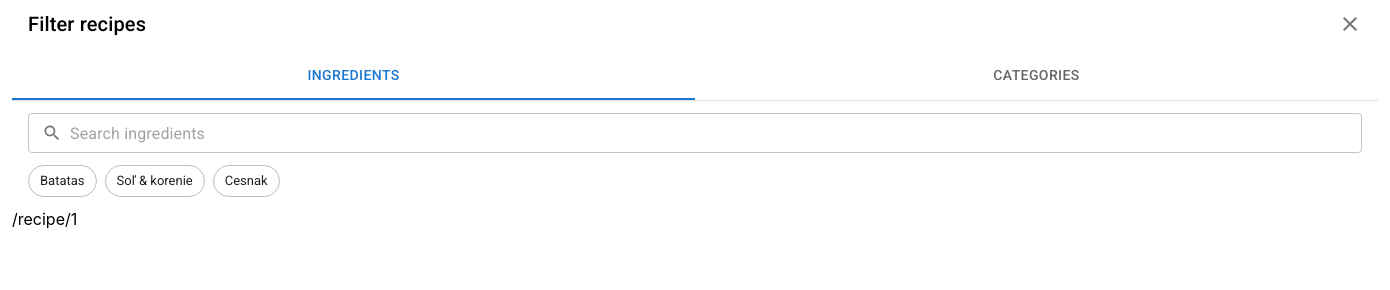
Test: RecipeMenu › filters by the picked ingredient, encoded, and closes
Step 1. Click the button "Soľ & korenie" → (155,181), box [104,165,205,197]
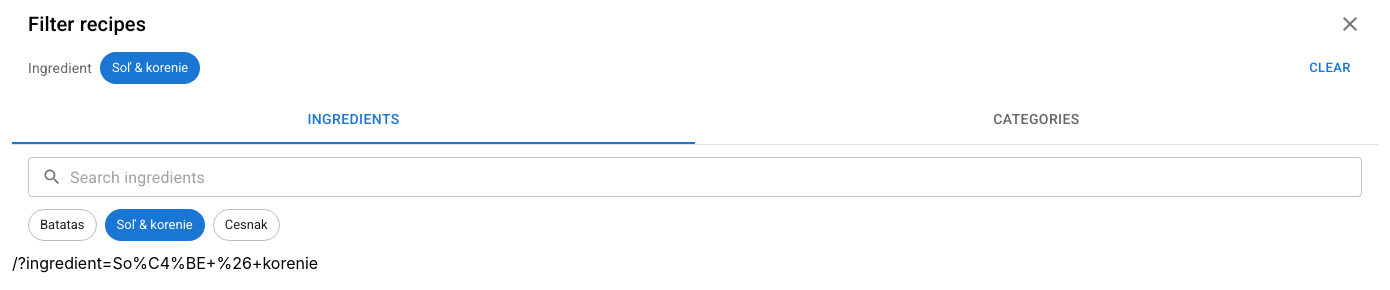
expect the text with test id "location" reads "/?ingredient=So%C4%BE+%26+korenie": met, box [12,253,318,273]
